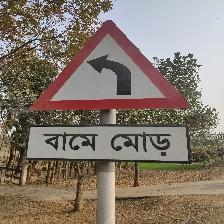Left-Turn: (22, 24, 192, 160)
